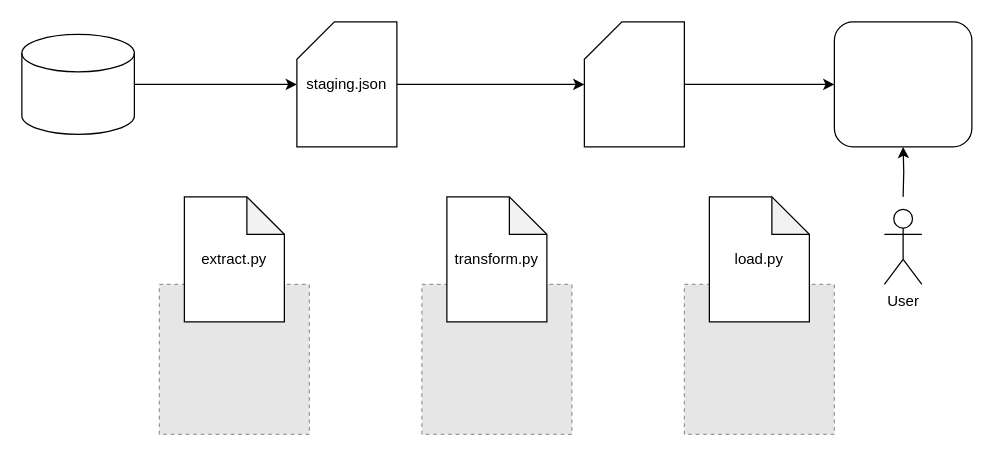
Some shapes in this 994 by 456 pixel diagram are drawn without their labels. Grey dashed boxes stand in for pictures. The shapes that lost their labels are listed below. From the top down, each one's centre as x and y in pixels, then its label:
pixel 77 83: API <Fruityvice>
pixel 633 84: transformed.csv
pixel 902 84: Diagram <Matplotlib>
